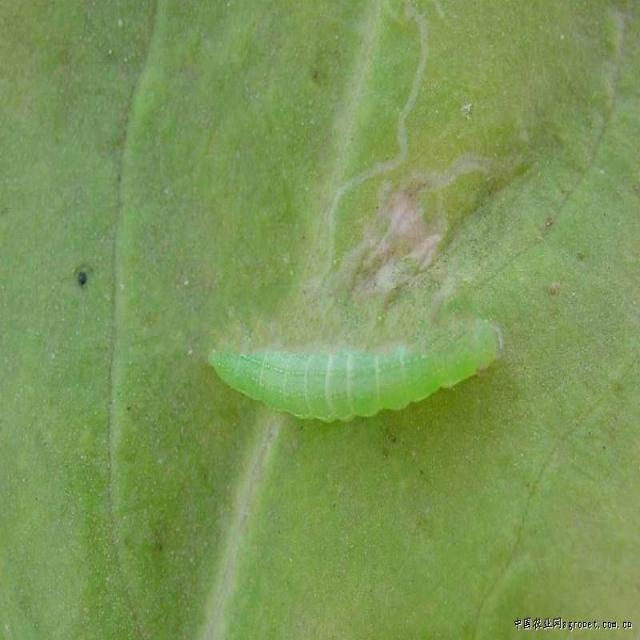armyworm: (197, 305, 518, 433)
